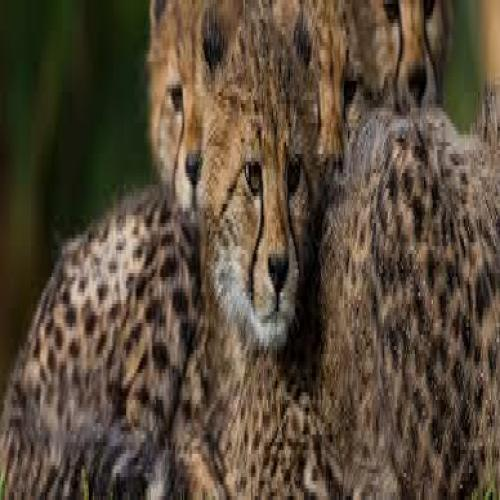cheetah-endangered: (12, 11, 321, 494), (282, 0, 496, 481), (144, 0, 227, 250), (359, 0, 448, 134)
